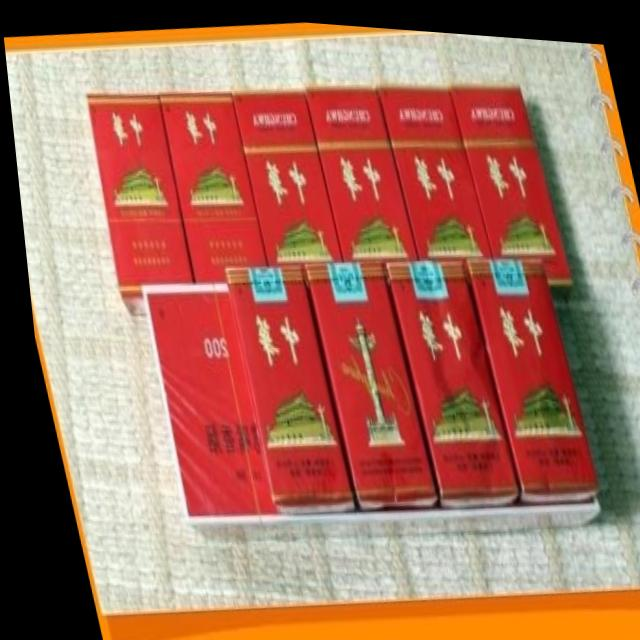box: (134, 280, 268, 518), (299, 250, 426, 498), (378, 251, 508, 491), (460, 248, 590, 485), (218, 263, 344, 498), (447, 75, 567, 278), (84, 92, 188, 314), (155, 89, 262, 280), (301, 82, 413, 255), (230, 84, 337, 262), (376, 79, 487, 250)
